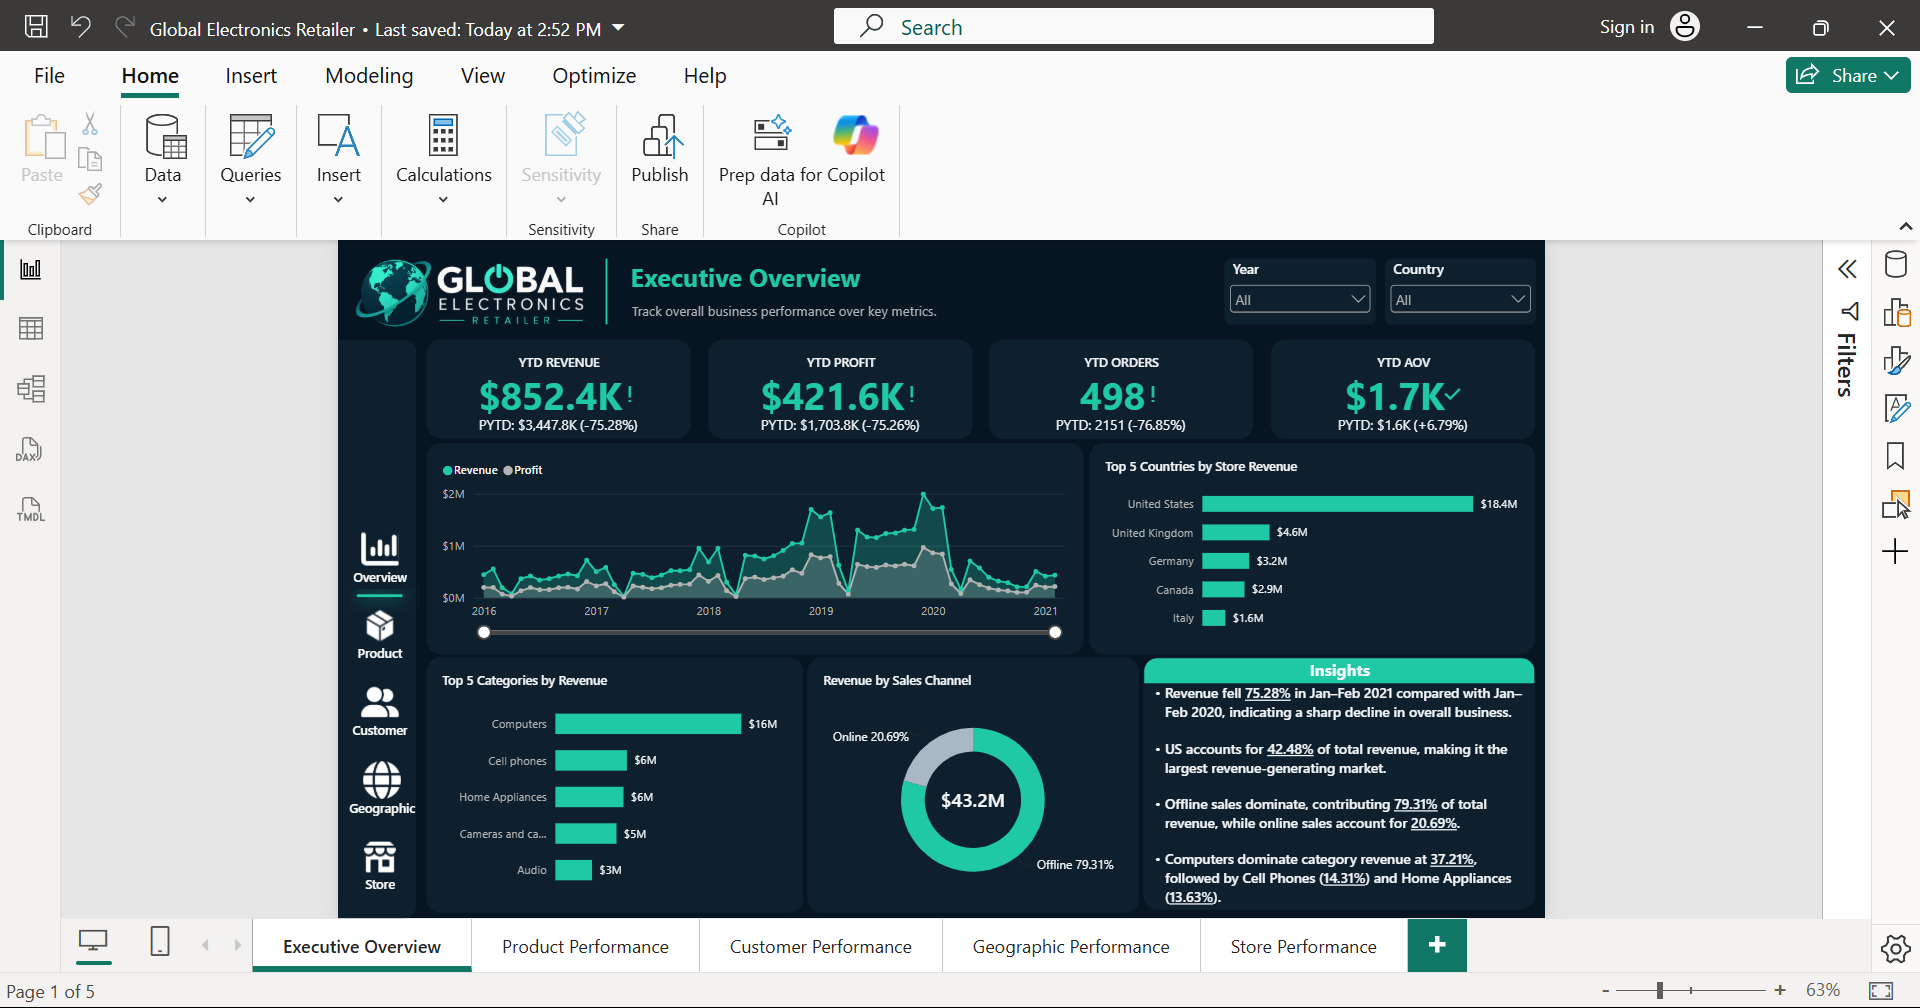

The dashboard page shown, as its layout file describes it:
{"tool":"powerbi","page":{"name":"Executive Overview","canvas":[1280,720],"ordinal":0},"visuals":[{"type":"image","box":[11.1,20.7,262.5,76.3],"z":0},{"type":"textbox","box":[310.9,23,281.7,38.3],"z":1000},{"type":"textbox","box":[311.3,67,373.8,23.9],"z":2000},{"type":"shape","box":[268.8,20.7,31.8,70],"z":3000},{"type":"shape","box":[0,106.6,82.7,614],"z":4000},{"type":"kpi","title":"YTD REVENUE","fields":{"Goal":["Measures Table.PYTD Revenue"],"Indicator":["Measures Table.YTD Revenue"],"TrendLine":["Calendar.Start of Month"]},"box":[94.3,106.6,280,105],"z":5000},{"type":"kpi","title":"YTD PROFIT","fields":{"Goal":["Measures Table.PYTD Profit"],"Indicator":["Measures Table.YTD Profit"],"TrendLine":["Calendar.Start of Month"]},"box":[392.7,106.6,280,105],"z":6000},{"type":"kpi","title":"YTD ORDERS","fields":{"Goal":["Measures Table.PYTD Orders"],"Indicator":["Measures Table.YTD Orders"],"TrendLine":["Calendar.Start of Month"]},"box":[691,106.6,280,105],"z":7000},{"type":"kpi","title":"YTD AOV","fields":{"Goal":["Measures Table.PYTD AOV"],"Indicator":["Measures Table.YTD AOV"],"TrendLine":["Calendar.Start of Month"]},"box":[989.4,106.6,280,105],"z":8000},{"type":"lineChart","fields":{"Category":["Calendar.Calendar Hierarchy.Start of Year","Calendar.Calendar Hierarchy.Start of Quarter","Calendar.Calendar Hierarchy.Start of Month","Calendar.Calendar Hierarchy.Start of Week","Calendar.Calendar Hierarchy.Date"],"Y":["Measures Table.Revenue","Measures Table.Profit"]},"box":[94.3,216.3,696.7,224.3],"z":9000},{"type":"shape","box":[3.2,358,82.7,41.4],"z":10000},{"type":"clusteredBarChart","title":"Top 5 Countries by Store Revenue","fields":{"Category":["Stores.Country"],"Y":["Measures Table.Revenue"]},"box":[796.9,216,472,224.3],"z":11000},{"type":"clusteredBarChart","title":"Top 5 Categories by Revenue","fields":{"Category":["Products.Category"],"Y":["Measures Table.Revenue"]},"box":[94.3,443.8,399.2,270.4],"z":12000},{"type":"donutChart","fields":{"Category":["Sales.Sales Channel"],"Y":["Measures Table.Revenue"]},"box":[498.4,443.8,351.5,270.4],"z":13000},{"type":"textbox","title":"Insights","box":[854.2,443.8,415.1,267.2],"z":14000},{"type":"slicer","fields":{"Values":["Stores.Country"]},"box":[1110.2,20.7,160,70],"z":15000},{"type":"slicer","fields":{"Values":["Calendar.Year"]},"box":[940.1,20.7,160.7,70],"z":16000},{"type":"actionButton","box":[3.2,378.8,82.7,82.7],"z":16002},{"type":"actionButton","box":[3.2,460.3,82.7,82.7],"z":16003},{"type":"actionButton","box":[0,542.4,93.8,82.7],"z":16004},{"type":"actionButton","box":[3.2,623.3,82.7,82.7],"z":16005},{"type":"actionButton","box":[3.2,297.2,82.7,82.7],"z":16006}]}

Visuals, with their boxes on the page's 1280x720 design canvas (x1, y1, x2, y2). These are canvas units, not pixel positions in the 1920x1008 screenshot, which may show the page scaled, cropped or inside an application window:
image: [left=11, top=21, right=274, bottom=97]
textbox: [left=311, top=23, right=593, bottom=61]
textbox: [left=311, top=67, right=685, bottom=91]
shape: [left=269, top=21, right=301, bottom=91]
shape: [left=0, top=107, right=83, bottom=721]
"YTD REVENUE" kpi: [left=94, top=107, right=374, bottom=212]
"YTD PROFIT" kpi: [left=393, top=107, right=673, bottom=212]
"YTD ORDERS" kpi: [left=691, top=107, right=971, bottom=212]
"YTD AOV" kpi: [left=989, top=107, right=1269, bottom=212]
lineChart - Calendar.Calendar Hierarchy.Start of Year x Calendar.Calendar Hierarchy.Start of Quarter: [left=94, top=216, right=791, bottom=441]
shape: [left=3, top=358, right=86, bottom=399]
"Top 5 Countries by Store Revenue" clusteredBarChart: [left=797, top=216, right=1269, bottom=440]
"Top 5 Categories by Revenue" clusteredBarChart: [left=94, top=444, right=494, bottom=714]
donutChart - Sales.Sales Channel x Measures Table.Revenue: [left=498, top=444, right=850, bottom=714]
"Insights" textbox: [left=854, top=444, right=1269, bottom=711]
slicer - Stores.Country: [left=1110, top=21, right=1270, bottom=91]
slicer - Calendar.Year: [left=940, top=21, right=1101, bottom=91]
actionButton: [left=3, top=379, right=86, bottom=462]
actionButton: [left=3, top=460, right=86, bottom=543]
actionButton: [left=0, top=542, right=94, bottom=625]
actionButton: [left=3, top=623, right=86, bottom=706]
actionButton: [left=3, top=297, right=86, bottom=380]
